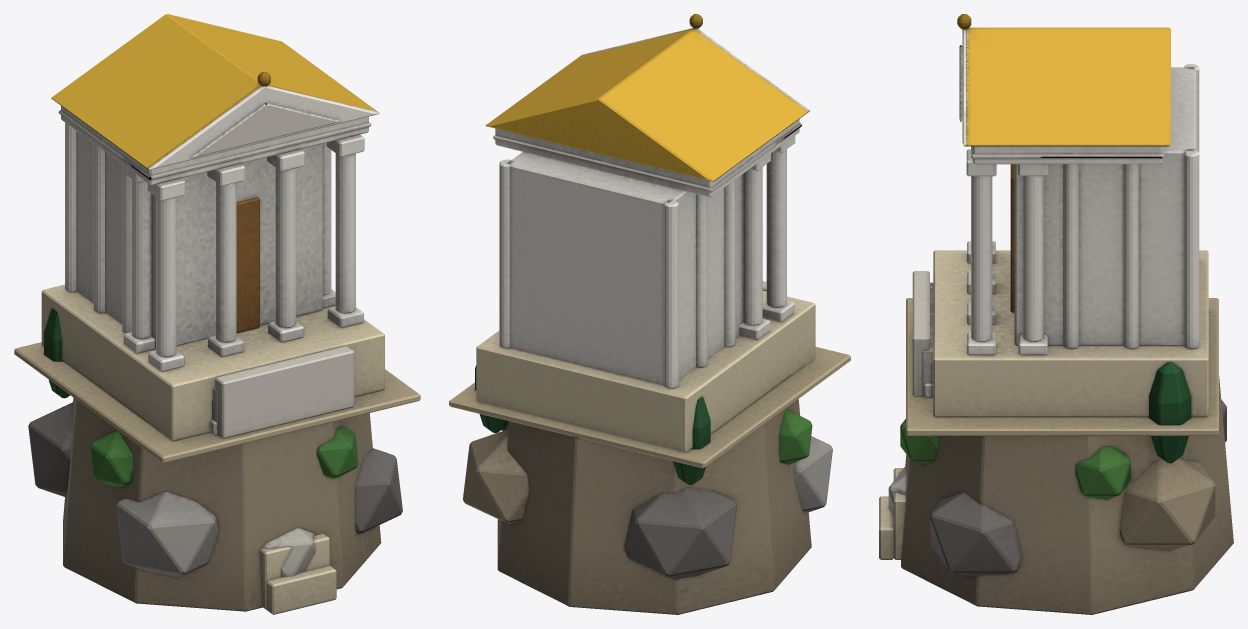
File: kapitol.glb
3 views of the same model, side by side, from view 1: azimuth 30°, elevation 25°; view 2: azimuth 150°, elevation 25°; view 3: azimuth 270°, elevation 25° (orthographic). The views are drawn at different scales.
Parts seen in each view (by area): view 1: kapitol; view 2: kapitol; view 3: kapitol.
Part boxes in pixels (x1,y1,x2,y2): kapitol: (14, 14, 420, 614); kapitol: (449, 14, 850, 614); kapitol: (879, 14, 1233, 614).
Bounding box in the file's own units: 1.76 × 2.99 × 1.81.
Materials: 1 (1 with a texture image).
